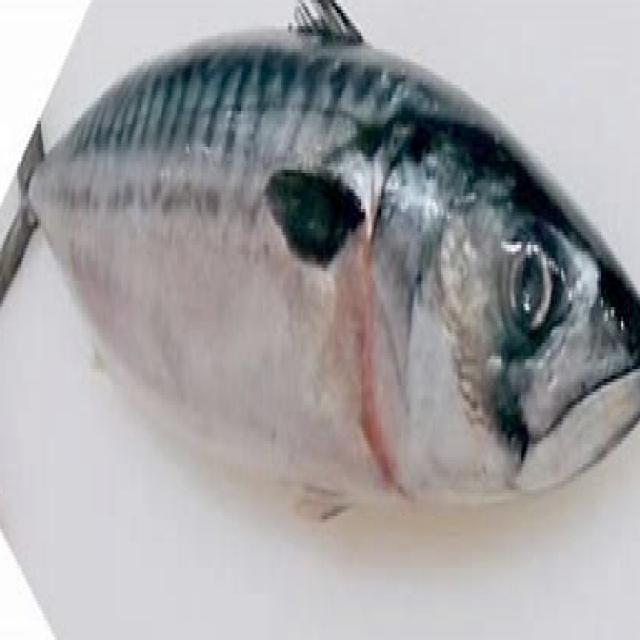seer: (0, 0, 640, 528)
